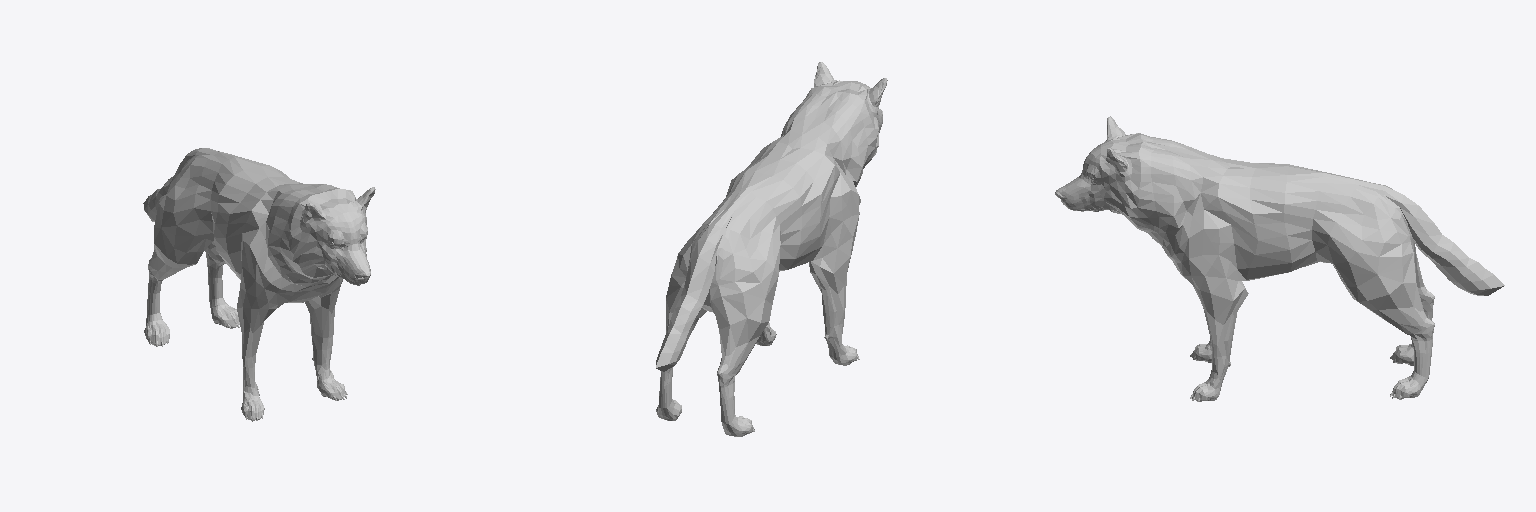
The model's file is HUSKY.OBJ.
The picture shows the model from 3 angles: view 1: azimuth 30°, elevation 25°; view 2: azimuth 150°, elevation 25°; view 3: azimuth 270°, elevation 25°; orthographic projection.
Visible parts, largest first — view 1: hsky_body; view 2: hsky_body; view 3: hsky_body.
Boxes of the visible parts, x1,y1,x2,y2 form: hsky_body: [143, 148, 375, 421]; hsky_body: [656, 62, 887, 436]; hsky_body: [1055, 116, 1504, 401].
Bounding box in the file's own units: 0.3352 × 0.7817 × 1.29.